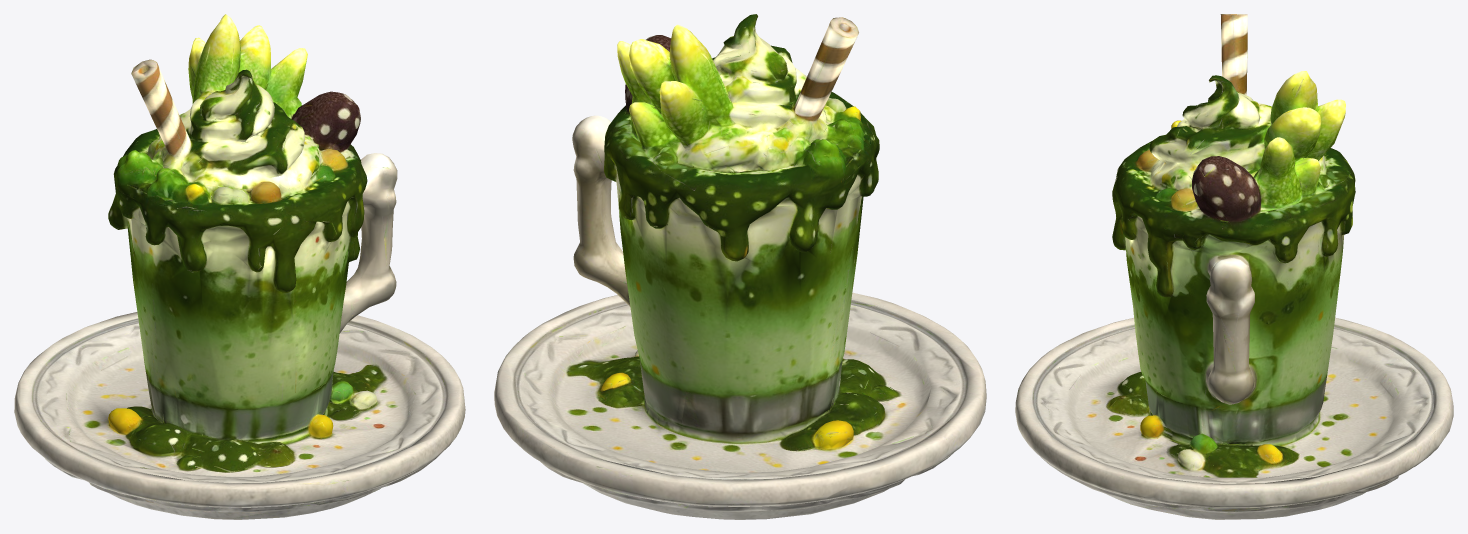
The model's file is shake.glb.
The picture shows the model from 3 angles, left to right: view 1: azimuth 30°, elevation 25°; view 2: azimuth 150°, elevation 25°; view 3: azimuth 270°, elevation 25°; orthographic projection. The views are drawn at different scales.
Parts seen in each view (by area): view 1: Mesh1.0; view 2: Mesh1.0; view 3: Mesh1.0.
Boxes of the visible parts, box(x1,y1,x2,y2) form: Mesh1.0: box(14, 14, 465, 519); Mesh1.0: box(494, 14, 986, 519); Mesh1.0: box(1015, 14, 1453, 519).
Bounding box in the file's own units: 1.89 × 1.9 × 1.89.
1 material, 1 textured.
